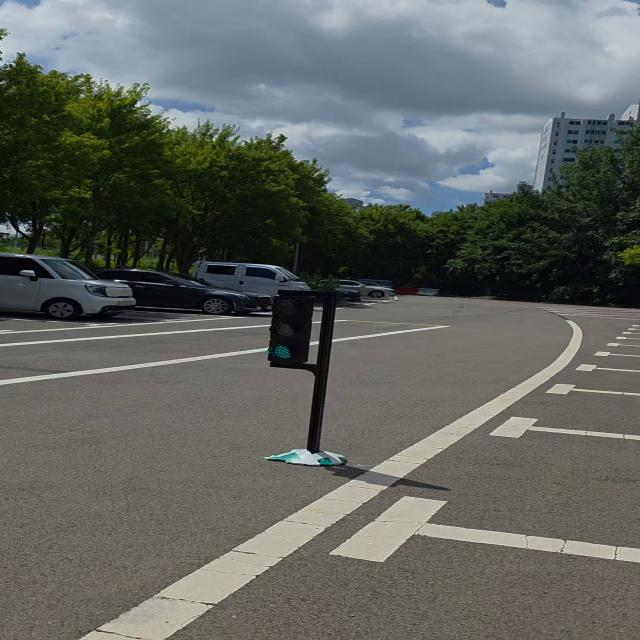green: (267, 291, 326, 366)
